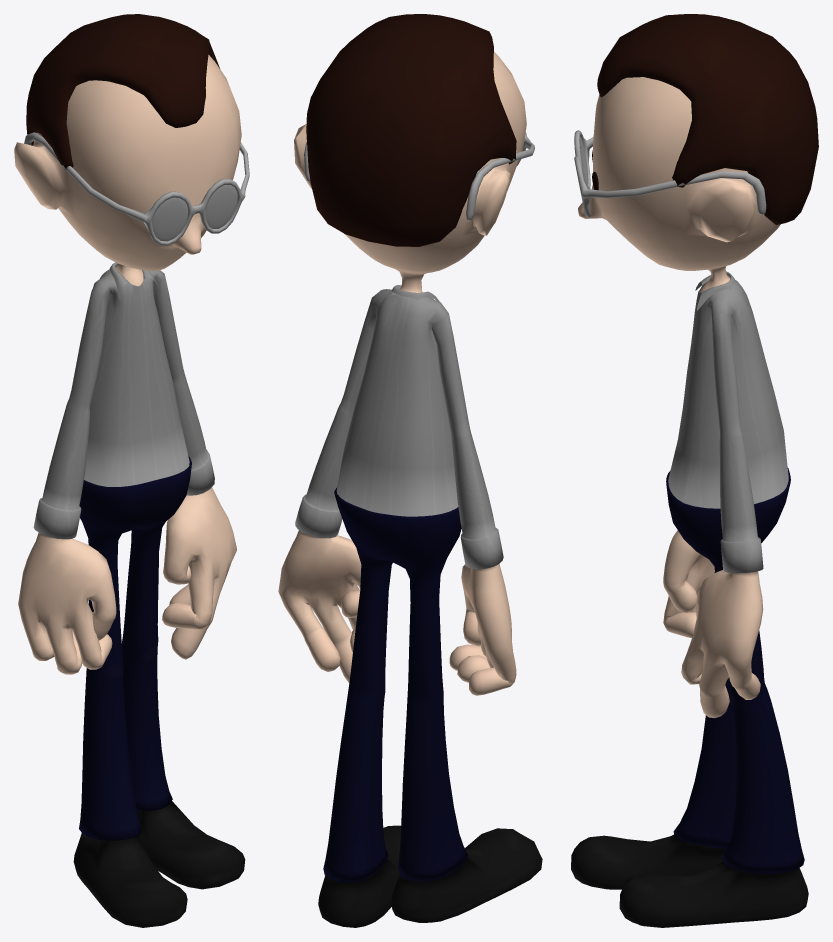
File: Animation_Cartoon_Starter_000274.obj
3 views of the same model, side by side, from view 1: azimuth 30°, elevation 25°; view 2: azimuth 150°, elevation 25°; view 3: azimuth 270°, elevation 25° (orthographic). The views are drawn at different scales.
Parts seen in each view (by area): view 1: bm_09; view 2: bm_09; view 3: bm_09.
Boxes of the visible parts, x1,y1,x2,y2 form: bm_09: (14, 14, 249, 927); bm_09: (278, 14, 542, 927); bm_09: (571, 14, 818, 927).
Bounding box in the file's own units: 0.4092 × 1.51 × 0.3911.
3 materials, 1 textured.
